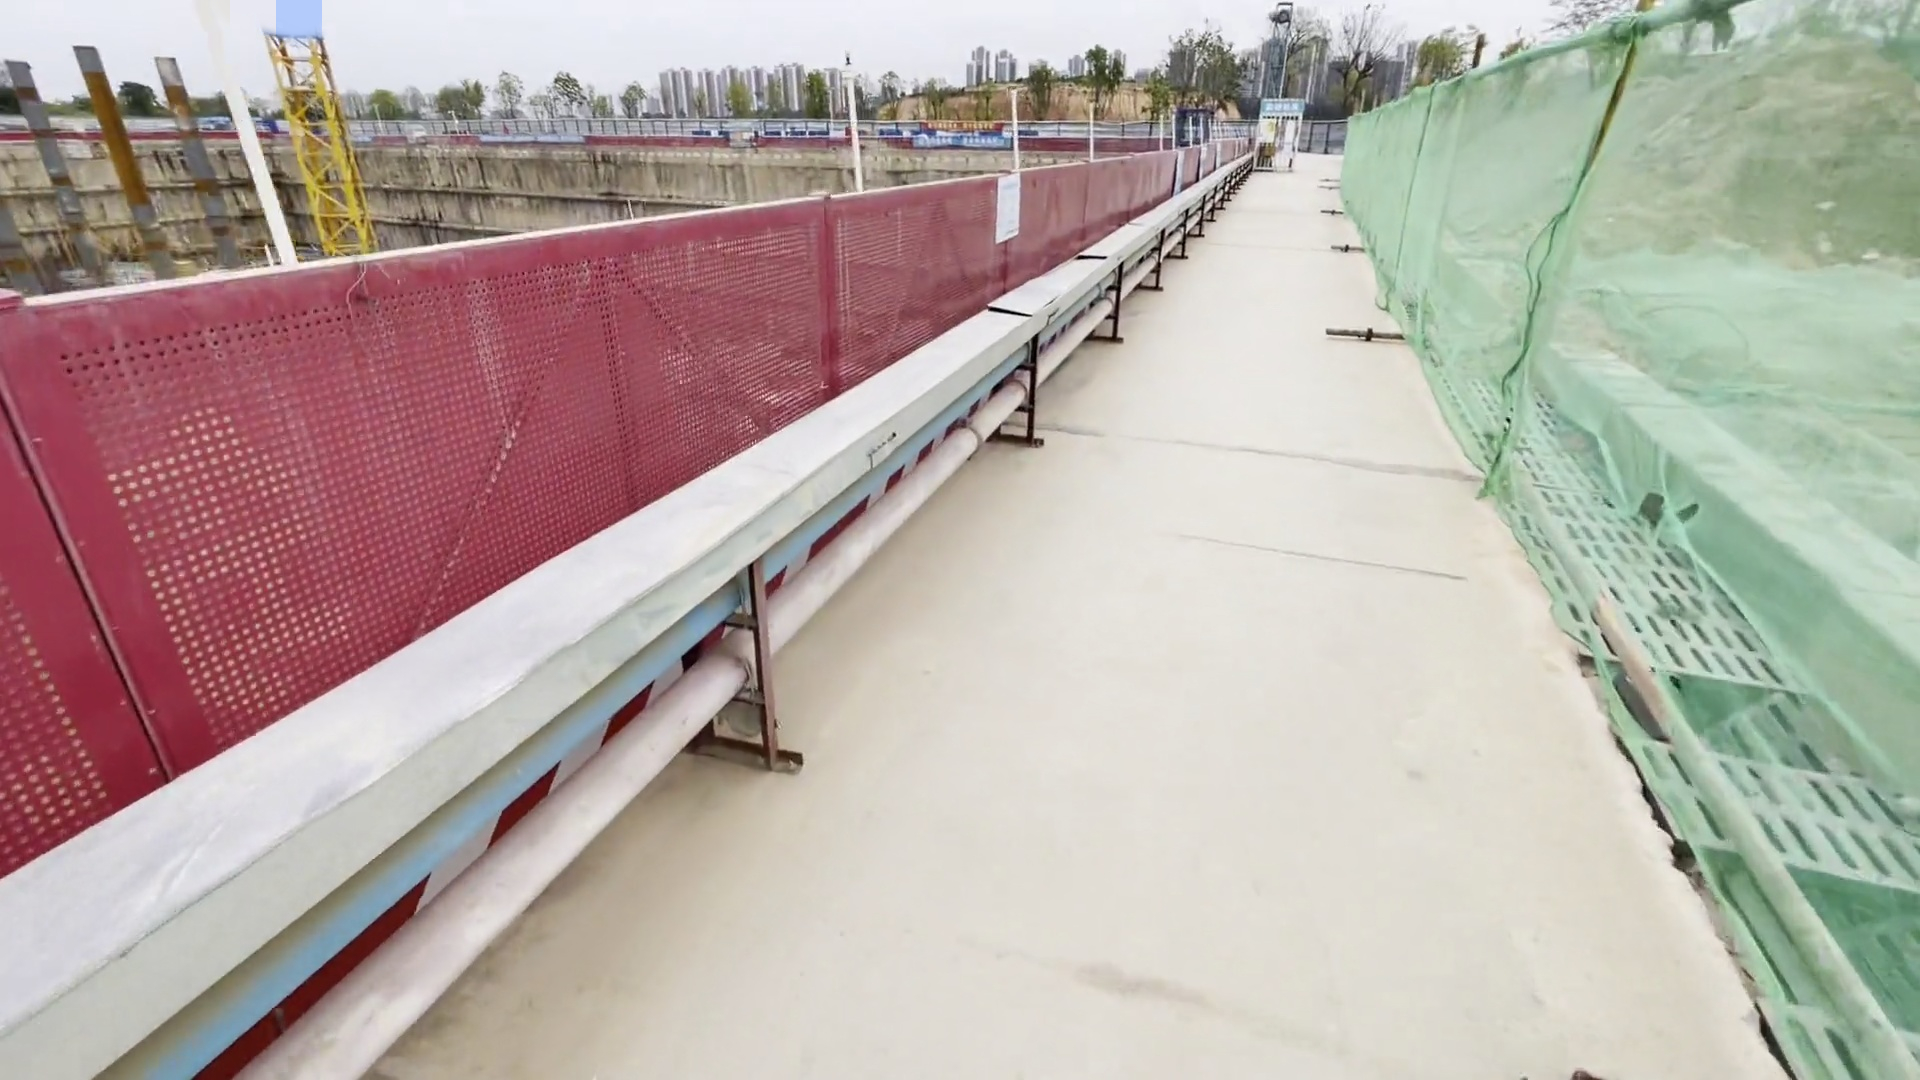fence: (1, 140, 1251, 893)
slogan: (1262, 90, 1303, 120)
